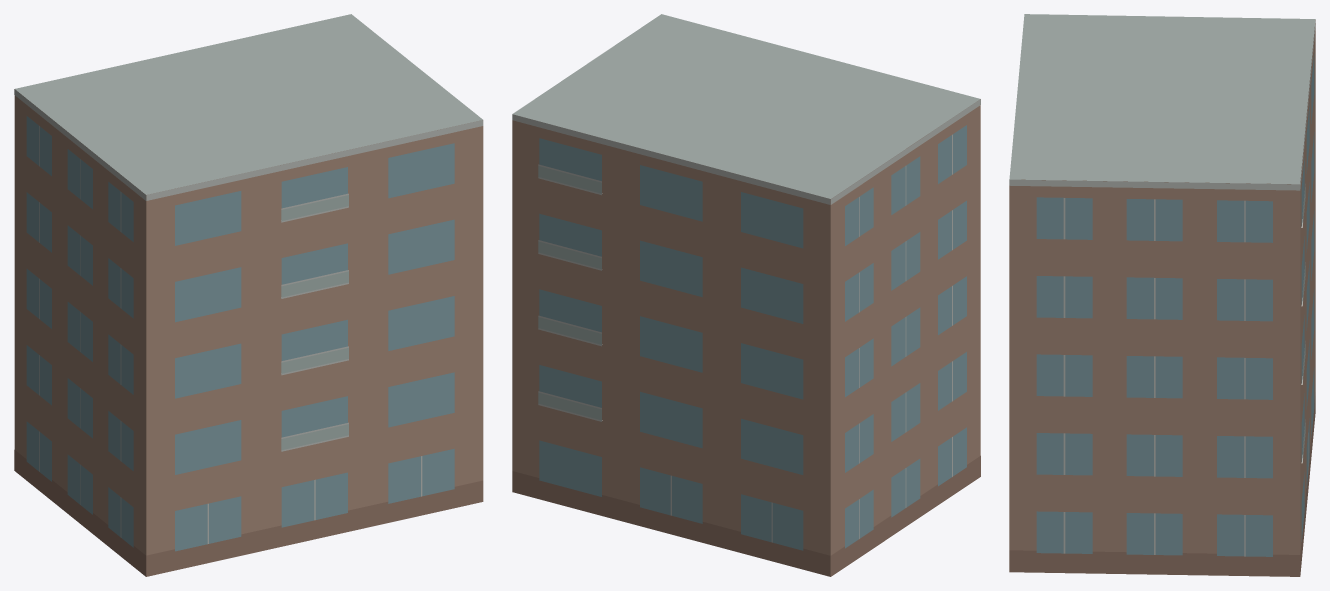
Rendered from survey-upis-32572846.glb.
The picture shows the model from 3 angles, left to right: view 1: azimuth 30°, elevation 25°; view 2: azimuth 150°, elevation 25°; view 3: azimuth 270°, elevation 25°; orthographic projection. The views are drawn at different scales.
Parts seen in each view (by area): view 1: survey-upis-32572846.tmp; view 2: survey-upis-32572846.tmp; view 3: survey-upis-32572846.tmp.
Boxes of the visible parts, x1,y1,x2,y2 form: survey-upis-32572846.tmp: [14, 14, 483, 576]; survey-upis-32572846.tmp: [512, 14, 980, 576]; survey-upis-32572846.tmp: [1009, 14, 1315, 576].
Size of the model in its own units: 14.19 by 15.25 by 10.79.
